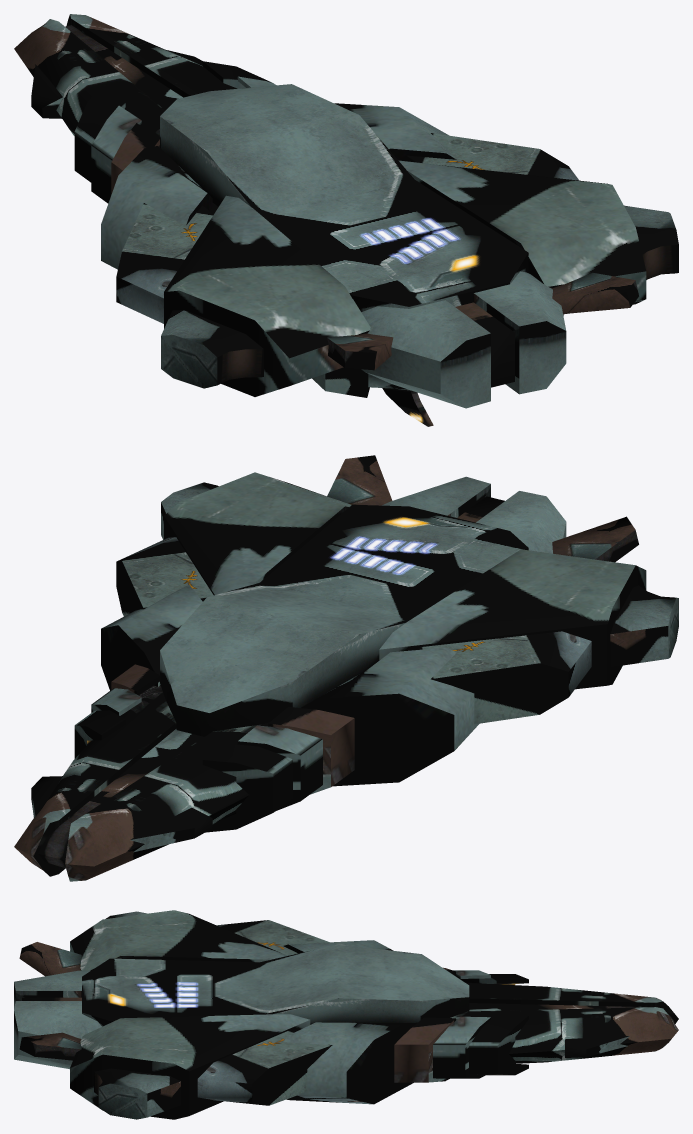
Rendered from ship12d.fbx.
The picture shows the model from 3 angles, top to bottom: view 1: azimuth 30°, elevation 25°; view 2: azimuth 150°, elevation 25°; view 3: azimuth 270°, elevation 25°; orthographic projection. The views are drawn at different scales.
Parts seen in each view (by area): view 1: PipelineFBX; view 2: PipelineFBX; view 3: PipelineFBX.
Part boxes in pixels (x1,y1,x2,y2): PipelineFBX: (14, 14, 678, 426); PipelineFBX: (14, 455, 678, 881); PipelineFBX: (14, 910, 678, 1119).
Bounding box in the file's own units: 518 × 182 × 809.
Materials: 1 (1 with a texture image).
